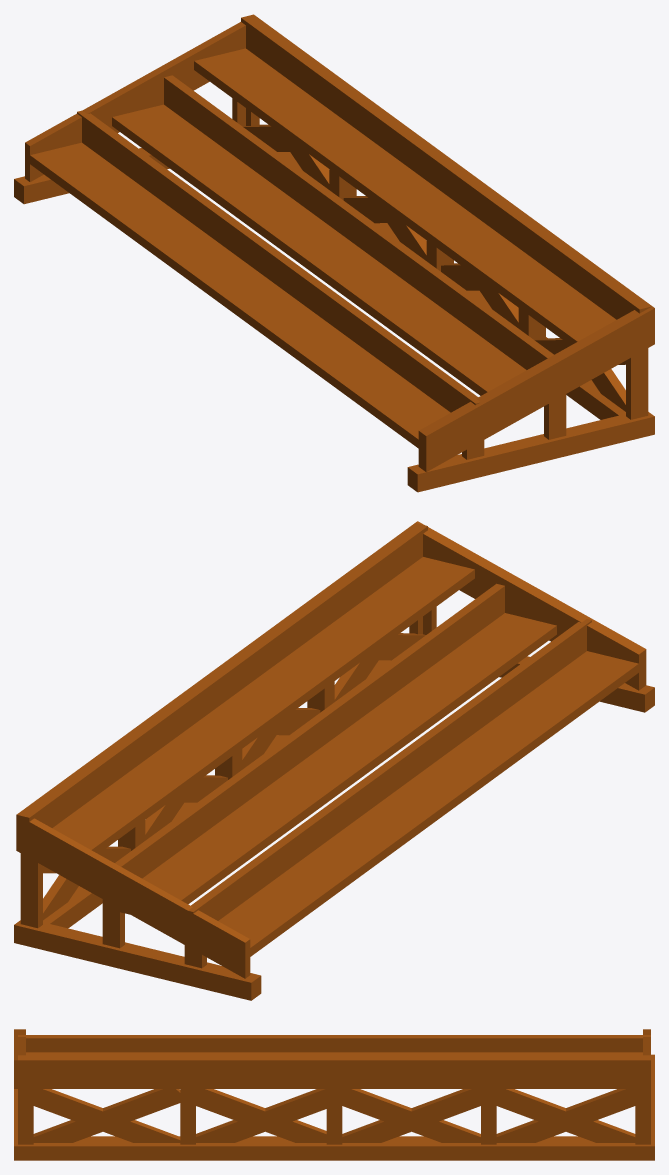
The model's file is ArenaStairsColor.fbx.
3 views of the same model, one above another, from view 1: azimuth 30°, elevation 25°; view 2: azimuth 150°, elevation 25°; view 3: azimuth 270°, elevation 25° (orthographic). The views are drawn at different scales.
Visible parts, largest first — view 1: STAIRS_RIGHT1_M_VM_V_M1; view 2: STAIRS_RIGHT1_M_VM_V_M1; view 3: STAIRS_RIGHT1_M_VM_V_M1.
Boxes of the visible parts, x1,y1,x2,y2 form: STAIRS_RIGHT1_M_VM_V_M1: (14,14,654,492); STAIRS_RIGHT1_M_VM_V_M1: (14,521,654,1000); STAIRS_RIGHT1_M_VM_V_M1: (14,1029,654,1160).
Bounding box in the file's own units: 10.31 × 5.25 × 30.38.
